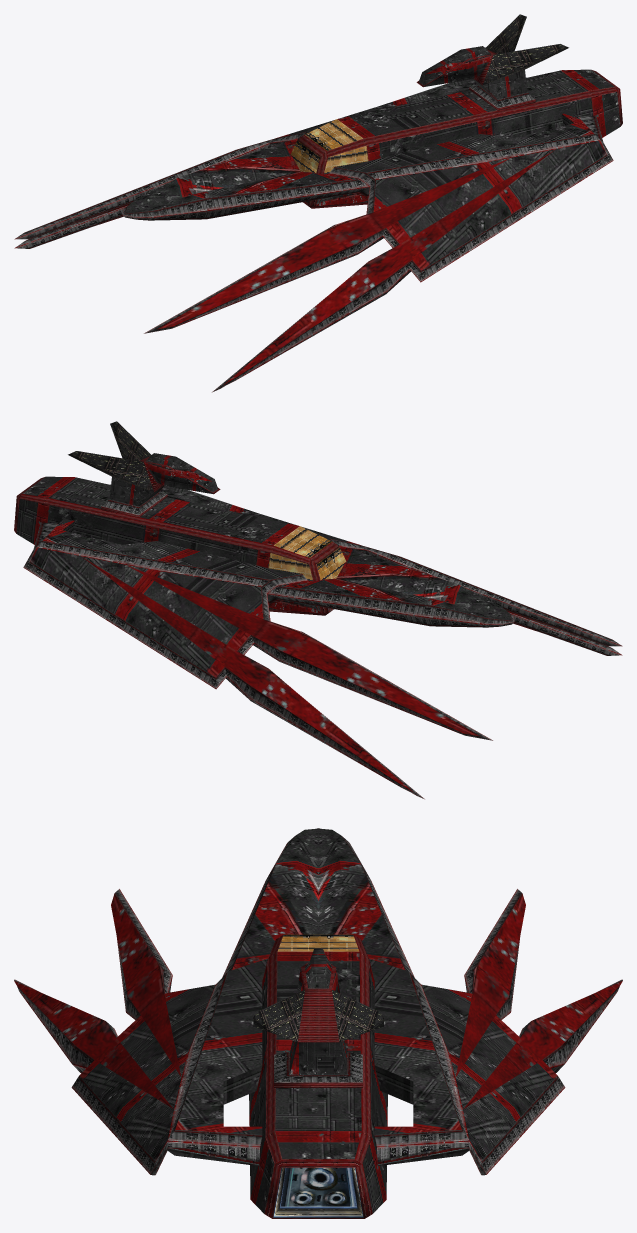
Rendered from npc01.obj.
3 renders of one model, top to bottom at view 1: azimuth 30°, elevation 25°; view 2: azimuth 150°, elevation 25°; view 3: azimuth 270°, elevation 25°, orthographic. The views are drawn at different scales.
Parts seen in each view (by area): view 1: WINGS0, BODY0, BRIDGE0; view 2: WINGS0, BODY0, BRIDGE0; view 3: WINGS0, BODY0, BRIDGE0.
Part boxes in pixels (box(x1,y1,x2,y2)): WINGS0: box(14, 77, 613, 392); BODY0: box(290, 69, 622, 208); BRIDGE0: box(416, 14, 568, 110); WINGS0: box(23, 484, 622, 799); BODY0: box(14, 476, 346, 615); BRIDGE0: box(68, 421, 220, 517); WINGS0: box(14, 828, 622, 1175); BODY0: box(249, 934, 387, 1218); BRIDGE0: box(253, 949, 383, 1088).
Size of the model in its own units: 60.72 by 20.66 by 39.24.
10 materials, 10 textured.
